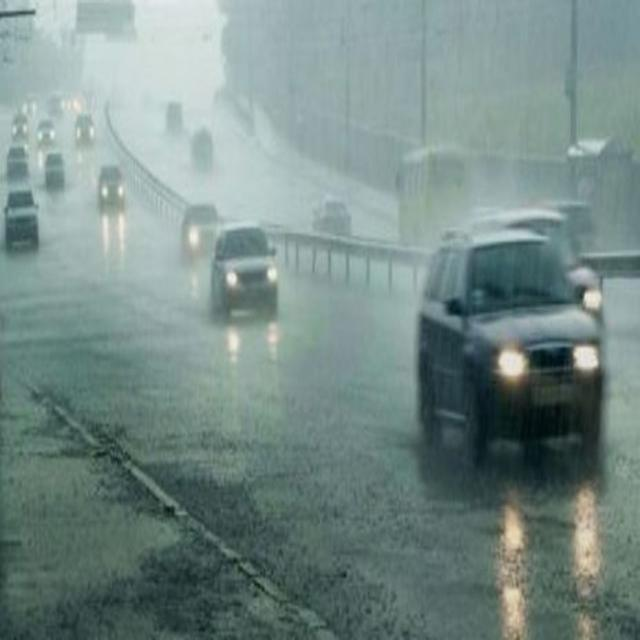car: (417, 212, 613, 471), (208, 222, 280, 320), (182, 200, 224, 260), (2, 189, 40, 244), (96, 164, 126, 209), (42, 150, 66, 188), (75, 114, 95, 146), (6, 144, 30, 170), (36, 120, 56, 141), (10, 114, 28, 135)
truck: (396, 146, 464, 236)
